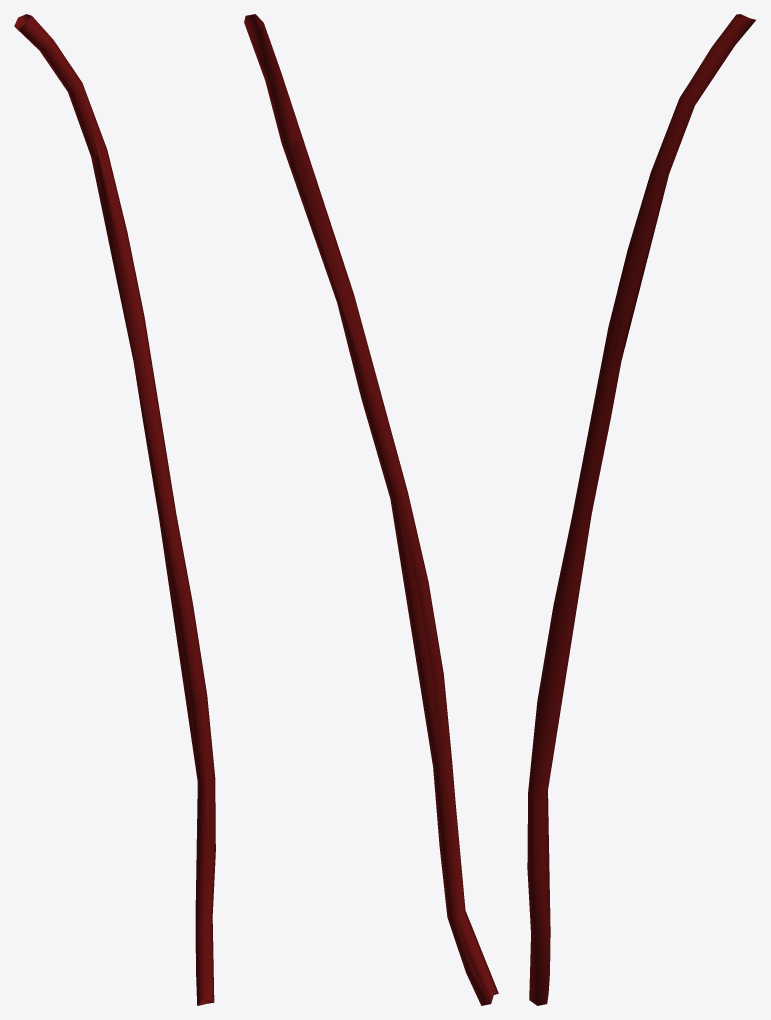
The model's file is R metatarseae plantares II.fbx.
3 renders of one model, left to right at view 1: azimuth 90°, elevation 25°; view 2: azimuth 150°, elevation 25°; view 3: azimuth 270°, elevation 25°, orthographic. The views are drawn at different scales.
Parts seen in each view (by area): view 1: R metatarseae plantares II, R metatarseae plantares II low; view 2: R metatarseae plantares II low, R metatarseae plantares II; view 3: R metatarseae plantares II, R metatarseae plantares II low.
Boxes of the visible parts, x1=… form: R metatarseae plantares II: x1=14, y1=16, x2=215, y2=1004; R metatarseae plantares II low: x1=18, y1=14, x2=214, y2=1005; R metatarseae plantares II low: x1=244, y1=14, x2=498, y2=1003; R metatarseae plantares II: x1=244, y1=15, x2=497, y2=1005; R metatarseae plantares II: x1=527, y1=14, x2=755, y2=1005; R metatarseae plantares II low: x1=528, y1=15, x2=751, y2=994.
Bounding box in the file's own units: 1.85 × 11.48 × 2.26.
